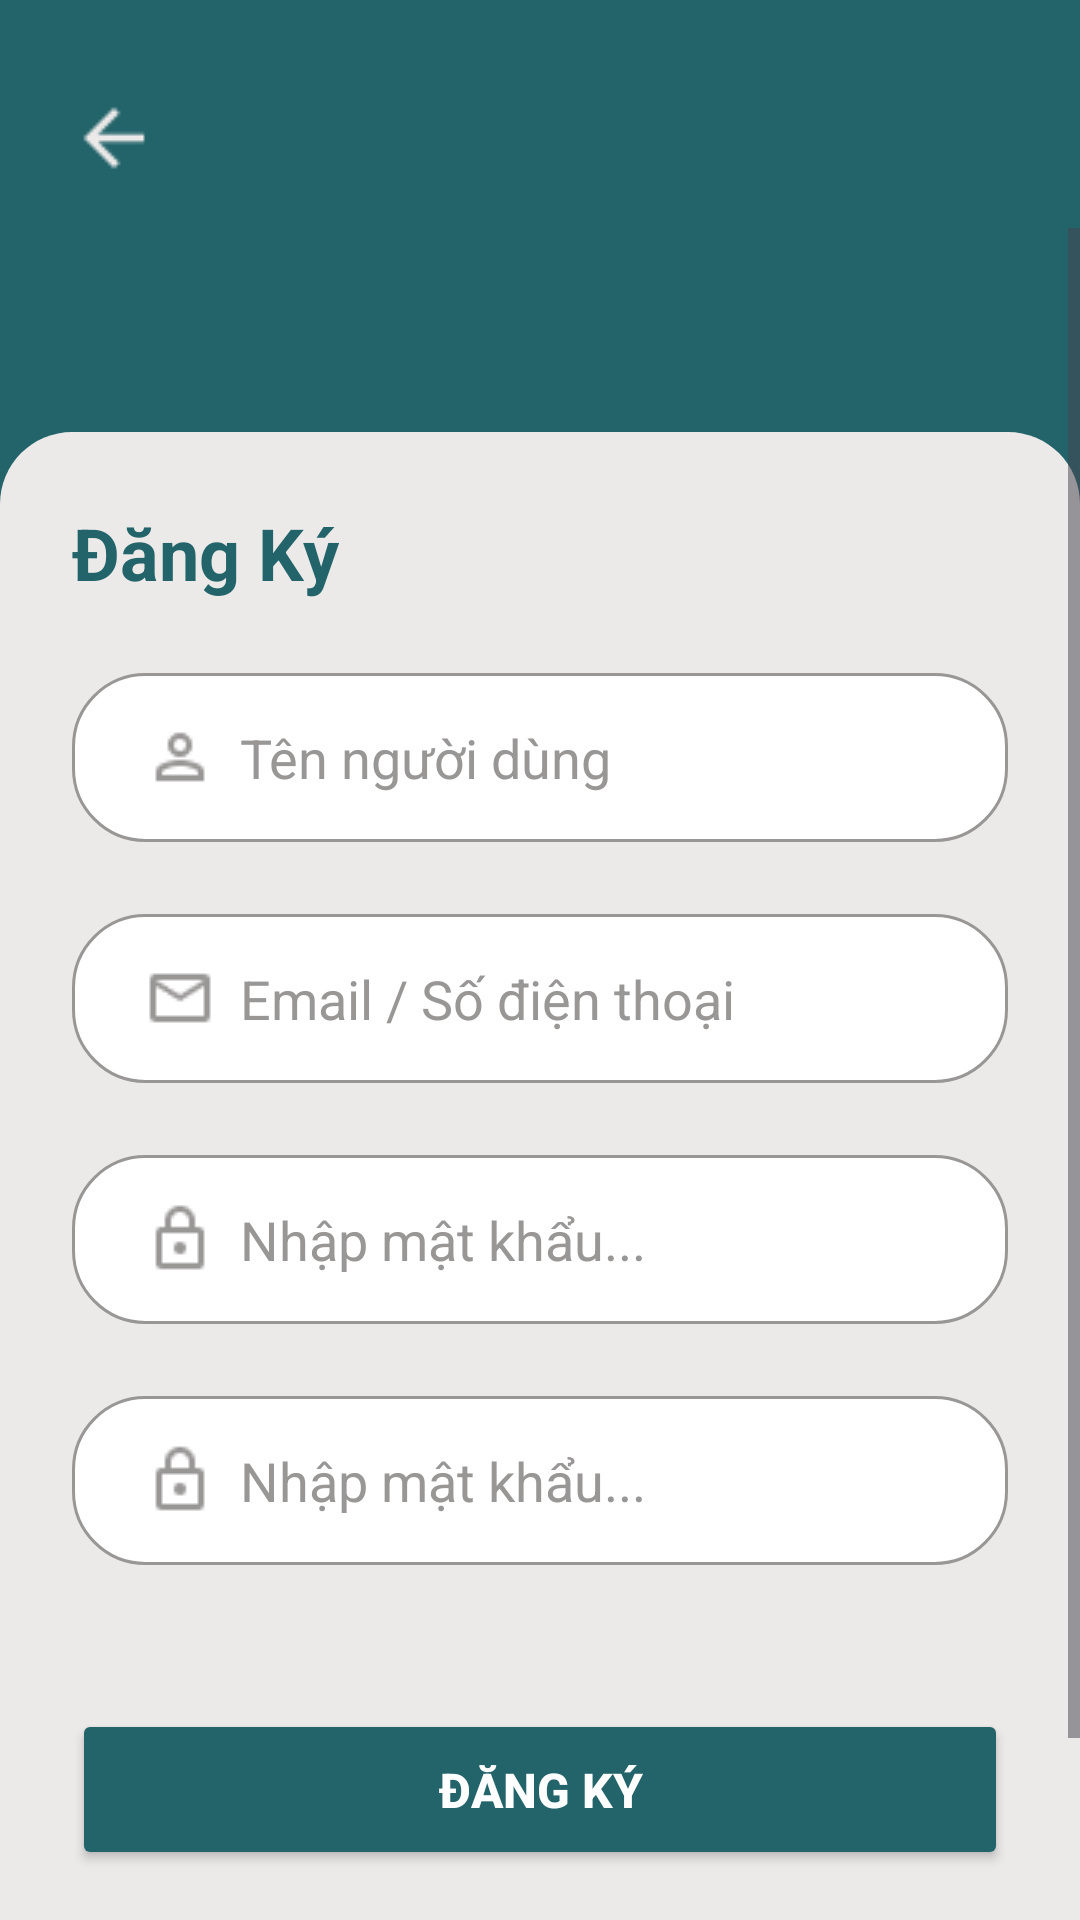

Icons on this 1080x1920 Android screen, each with the point to tap as (x,y):
Back: (114,138)
